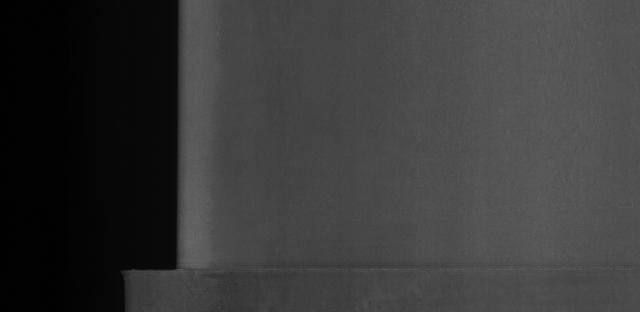welding_line: (104, 252, 638, 286)
